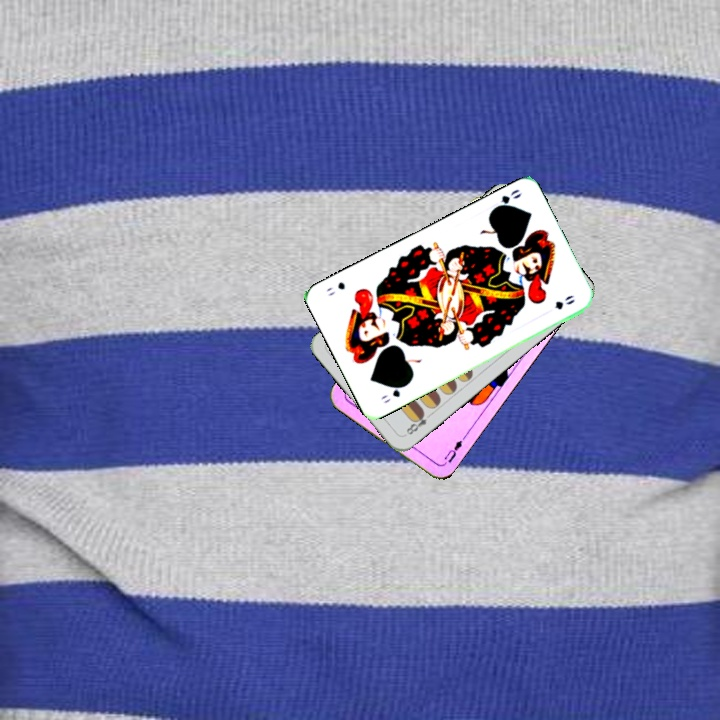E8: (402, 407, 435, 437)
EU: (439, 432, 468, 467)
GO: (488, 185, 524, 213), (377, 380, 410, 406)
